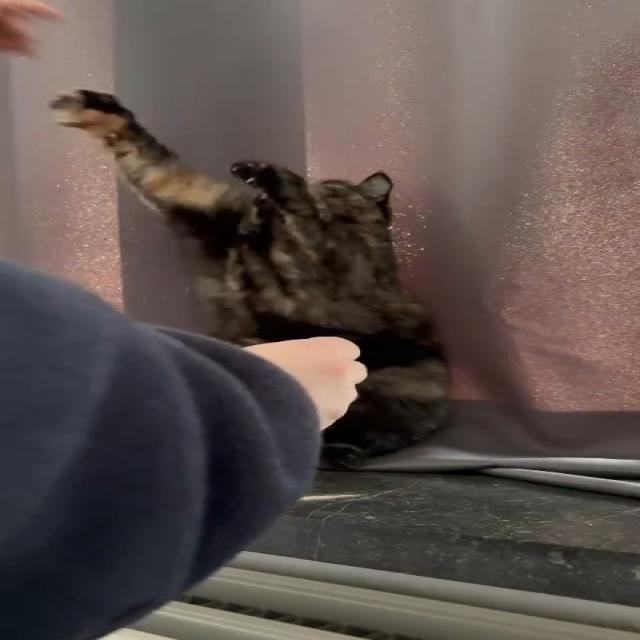authorized: (48, 87, 453, 469)
